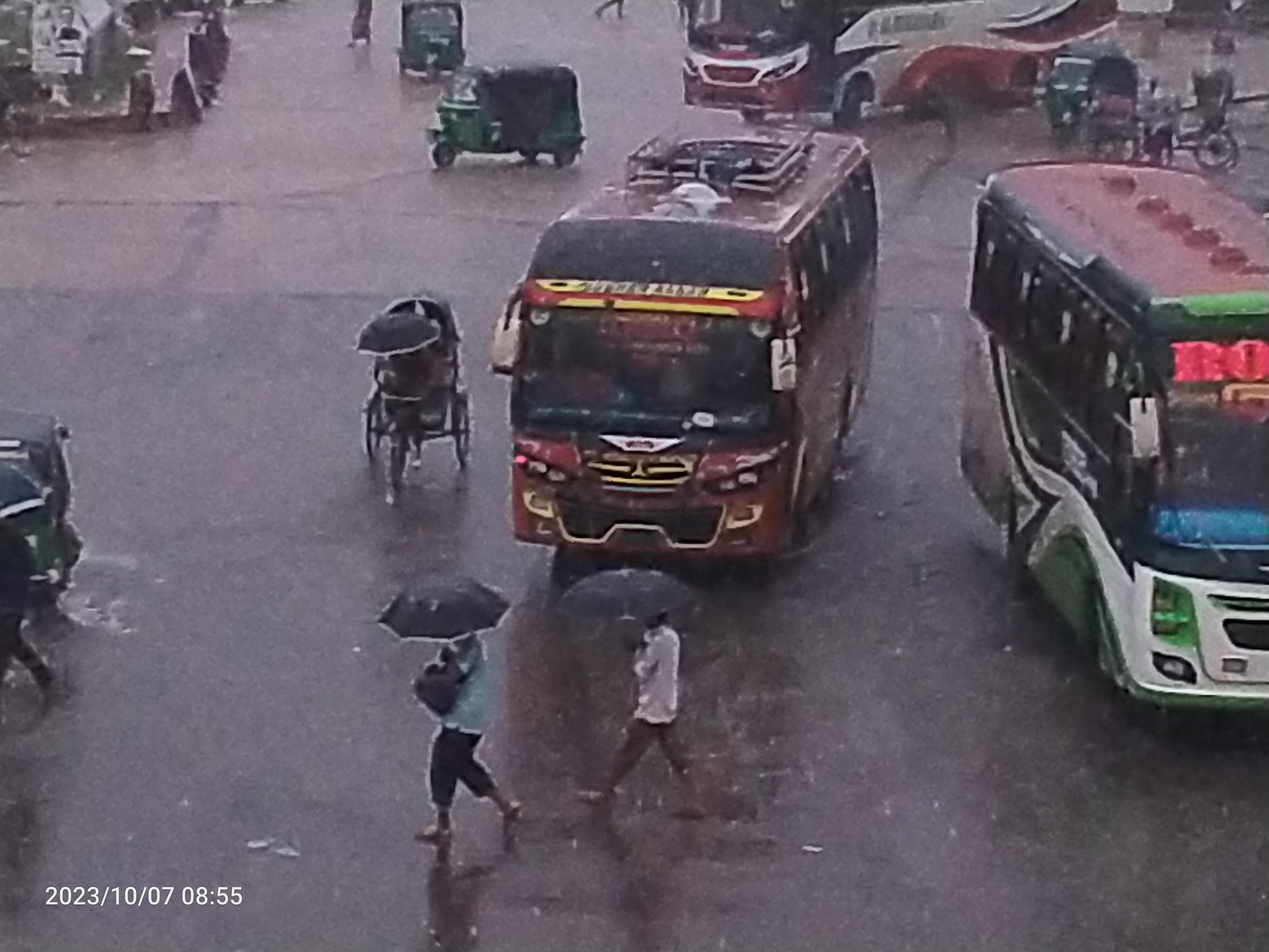Bus: (938, 137, 1269, 761), (480, 113, 894, 585), (648, 0, 1156, 134)
Car: (329, 270, 497, 500), (1136, 63, 1257, 187), (1075, 41, 1159, 182)
